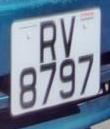7: (76, 51, 97, 100), (38, 60, 59, 108)
8: (17, 62, 39, 113)
9: (57, 57, 79, 103)
R: (36, 16, 60, 67)
V: (58, 14, 79, 62)
